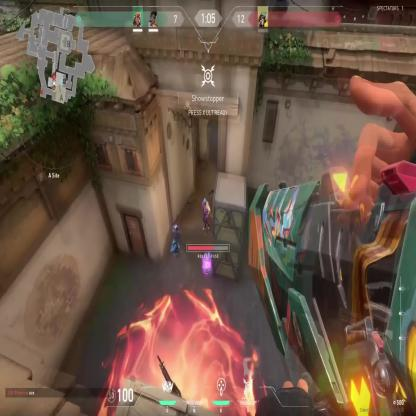enemy: (199, 196, 211, 235)
enemy_head: (204, 198, 206, 204)
